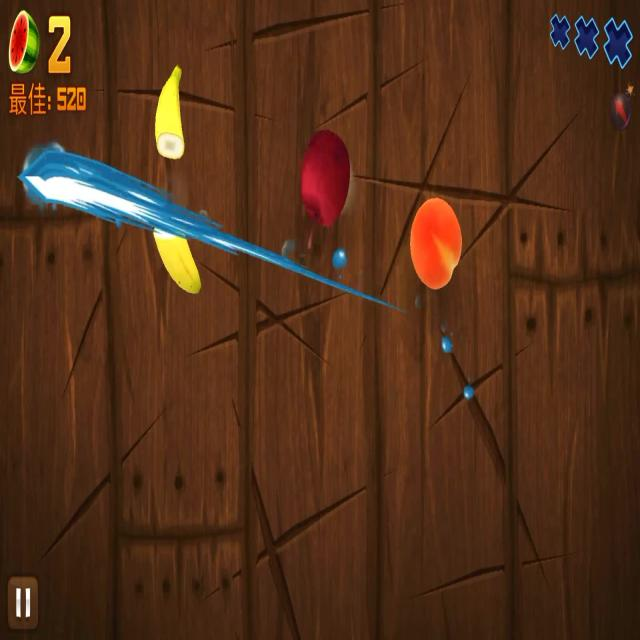fruit: (298, 123, 352, 234), (141, 218, 203, 300), (410, 190, 461, 288), (150, 60, 193, 162)
